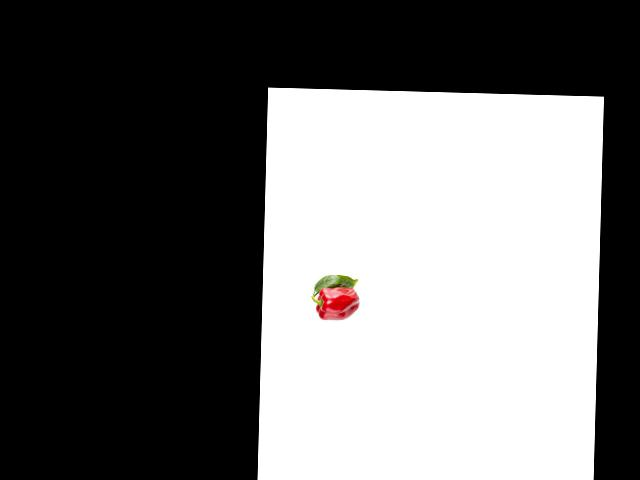bell_pepper: (311, 284, 361, 325)
